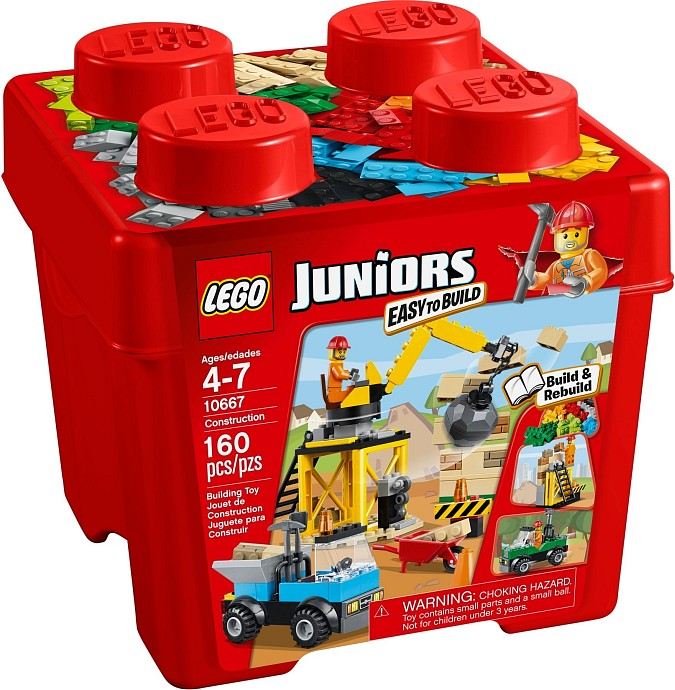LEGO: (184, 245, 283, 350)
